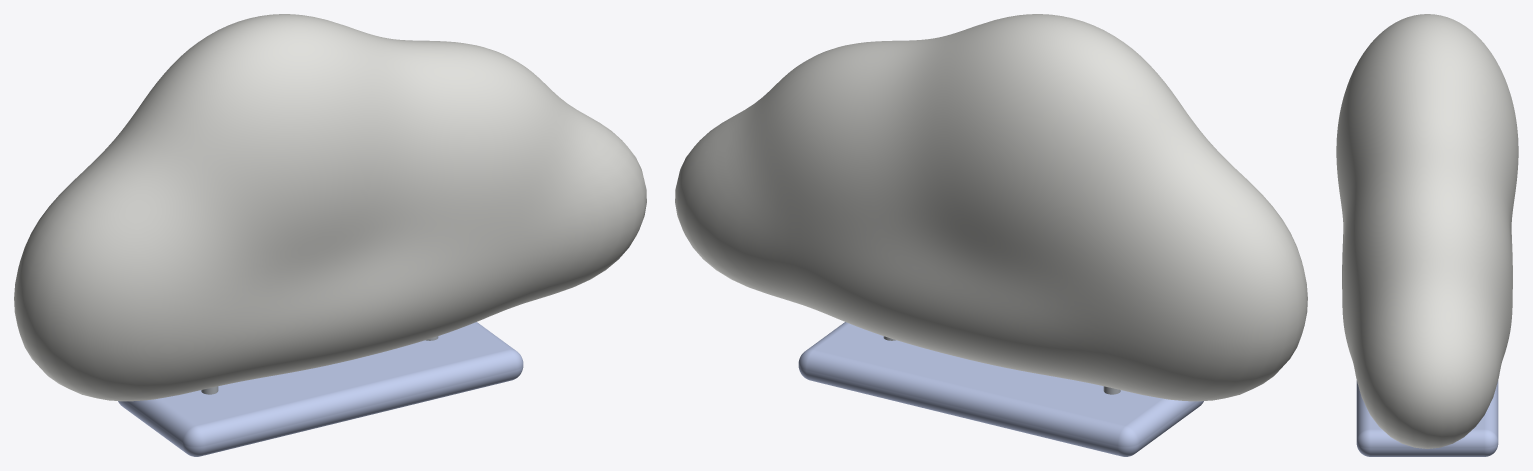
The model's file is cloud-sculpture.glb.
3 renders of one model, left to right at view 1: azimuth 30°, elevation 25°; view 2: azimuth 150°, elevation 25°; view 3: azimuth 270°, elevation 25°, orthographic. The views are drawn at different scales.
Visible parts, largest first — view 1: single-skin-soft-cloud, complete-sculpture-004; view 2: single-skin-soft-cloud, complete-sculpture-004; view 3: single-skin-soft-cloud, complete-sculpture-004.
Boxes of the visible parts, <box> form: single-skin-soft-cloud: <box>14,14,646,401</box>; complete-sculpture-004: <box>118,322,523,456</box>; single-skin-soft-cloud: <box>675,14,1307,401</box>; complete-sculpture-004: <box>798,322,1203,456</box>; single-skin-soft-cloud: <box>1336,14,1518,448</box>; complete-sculpture-004: <box>1356,380,1498,456</box>.
Bounding box in the file's own units: 2 × 1.19 × 0.5794.
